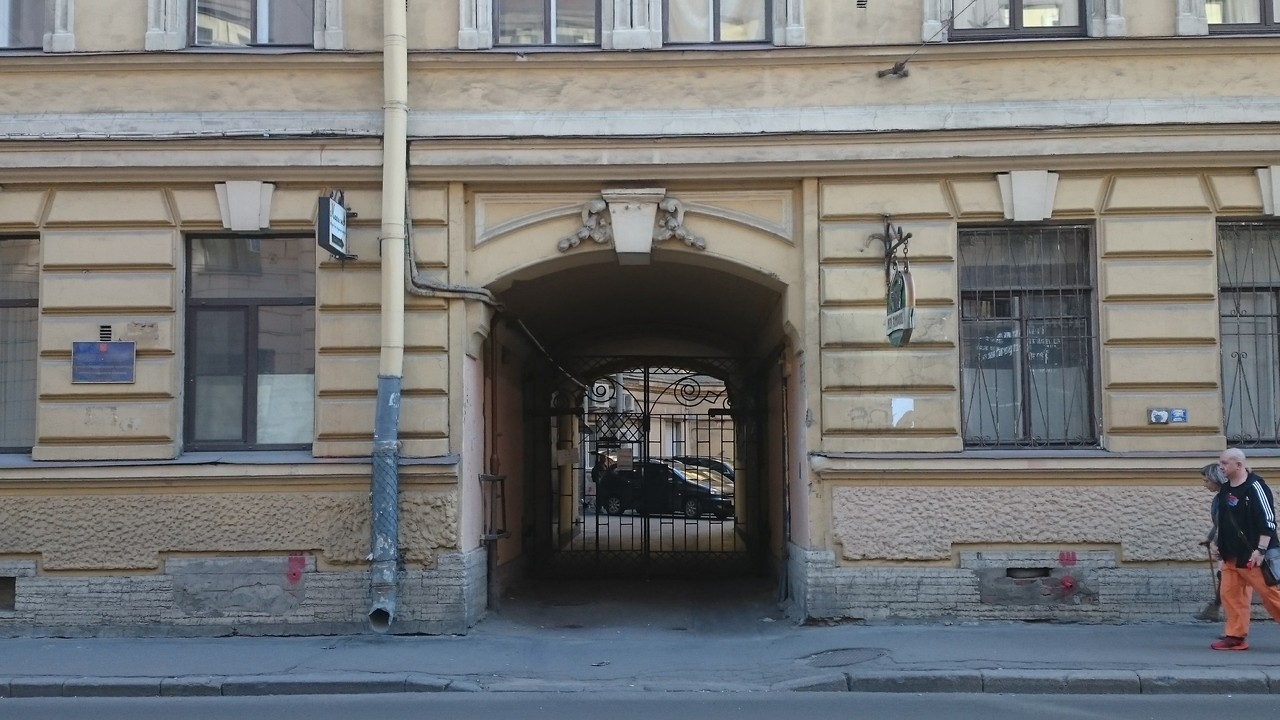arch: (481, 244, 807, 626)
cantilever: (873, 221, 920, 350), (312, 182, 360, 261)
window: (958, 222, 1097, 450), (183, 230, 316, 452)
